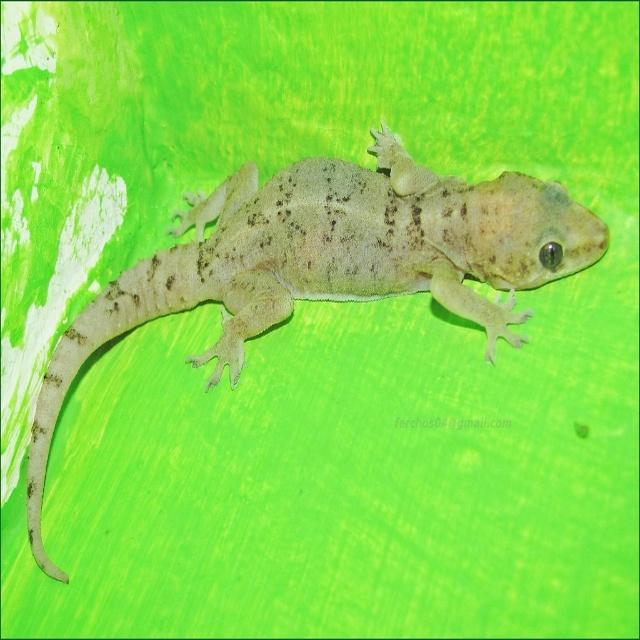Lizard: (27, 122, 610, 584)
